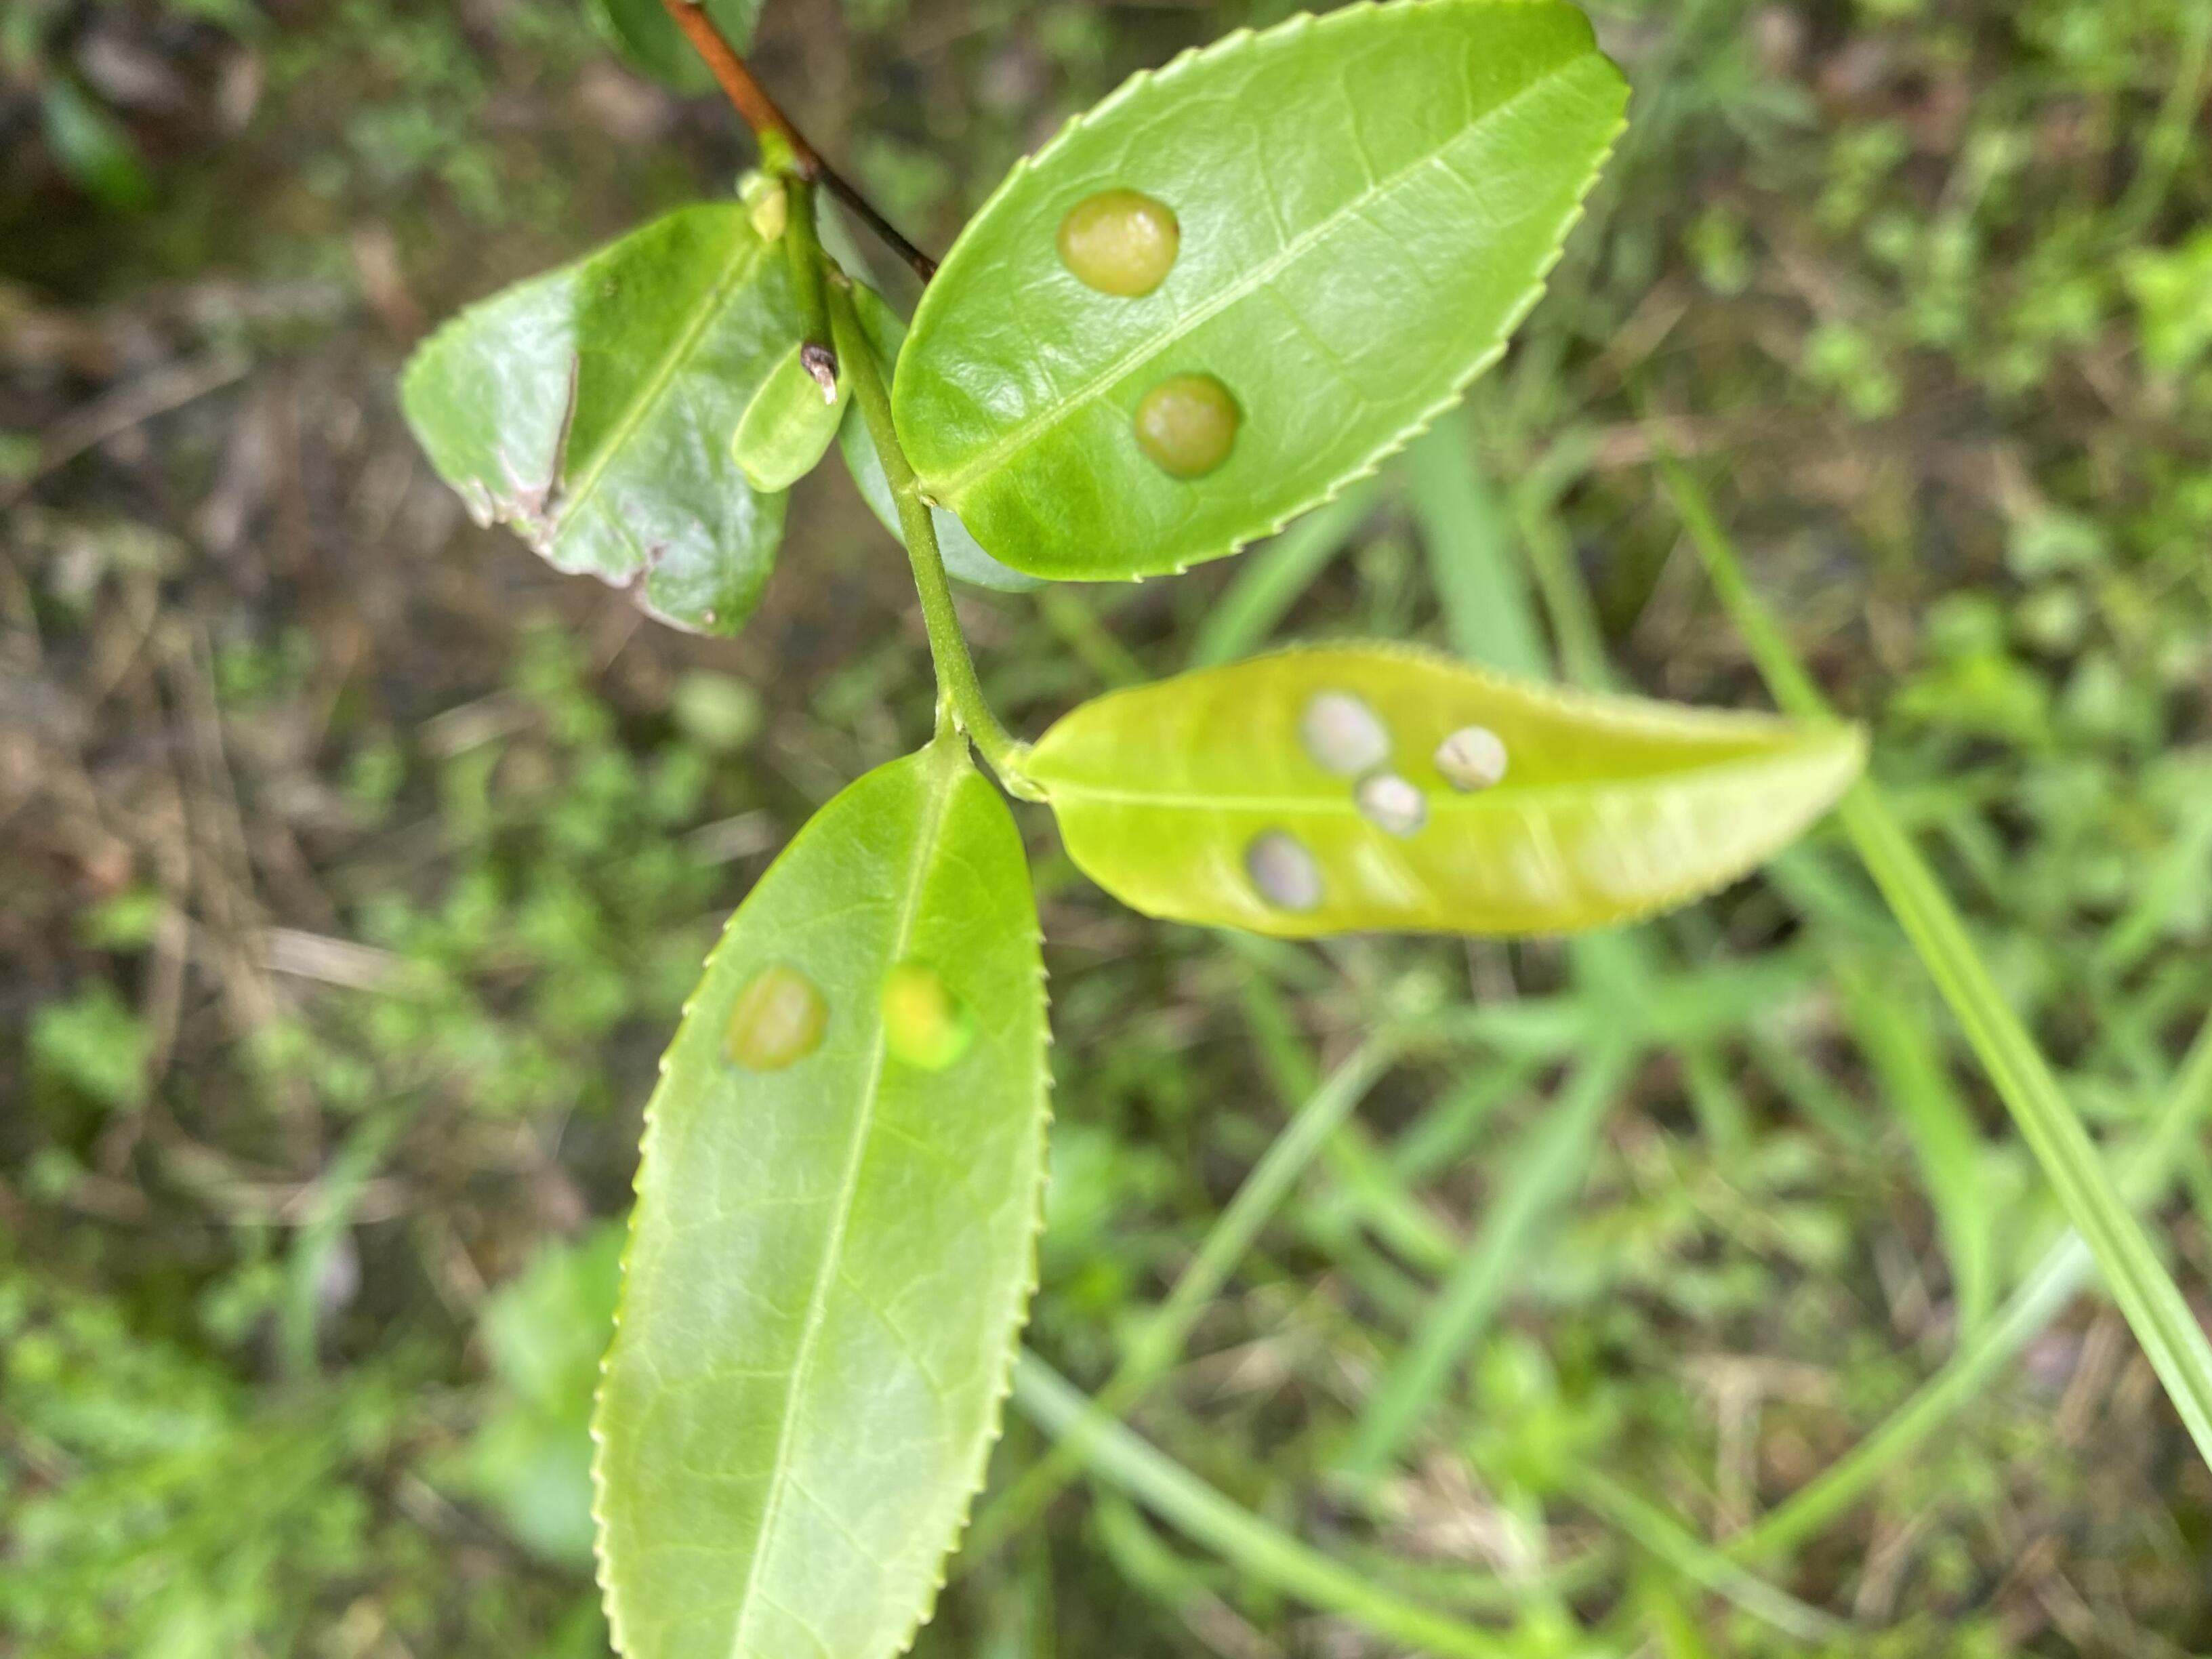chabing_high: (885, 5, 1639, 580), (583, 749, 1055, 1656), (1017, 634, 1874, 945)
chihuo_high: (388, 200, 801, 638)
